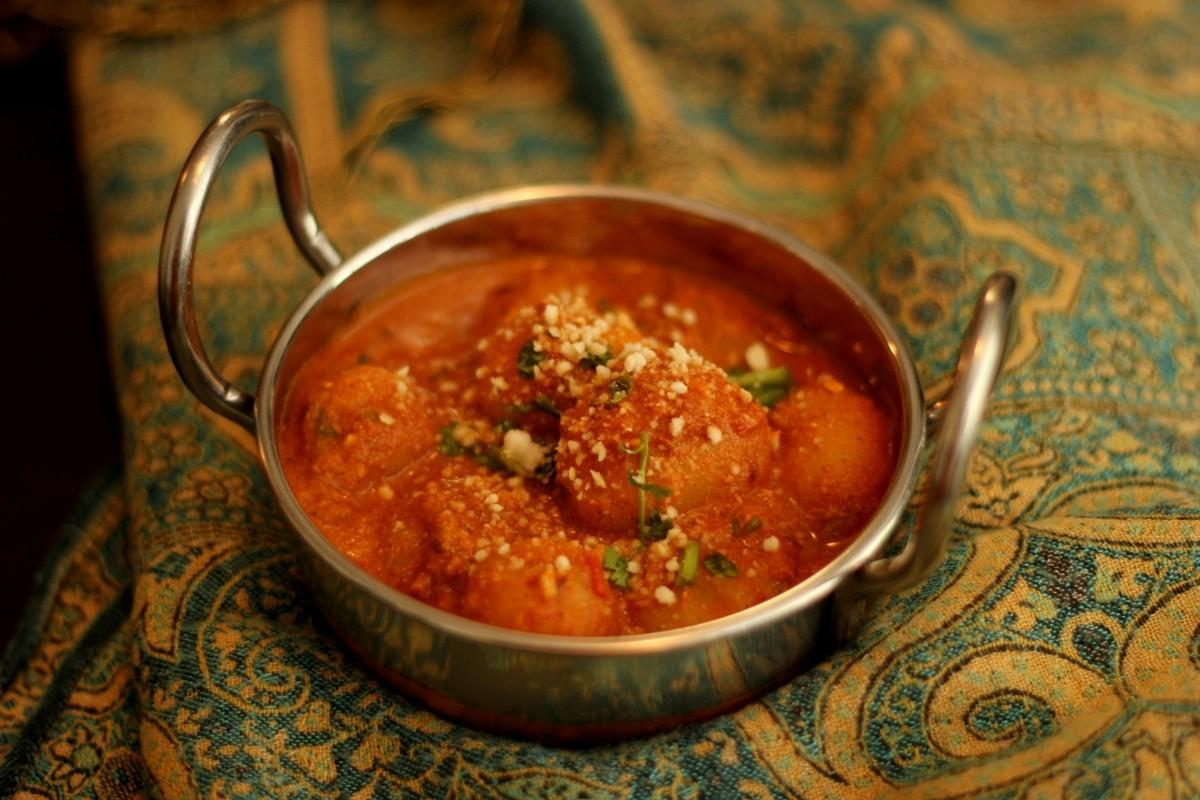DumAloo: (264, 242, 898, 635)
